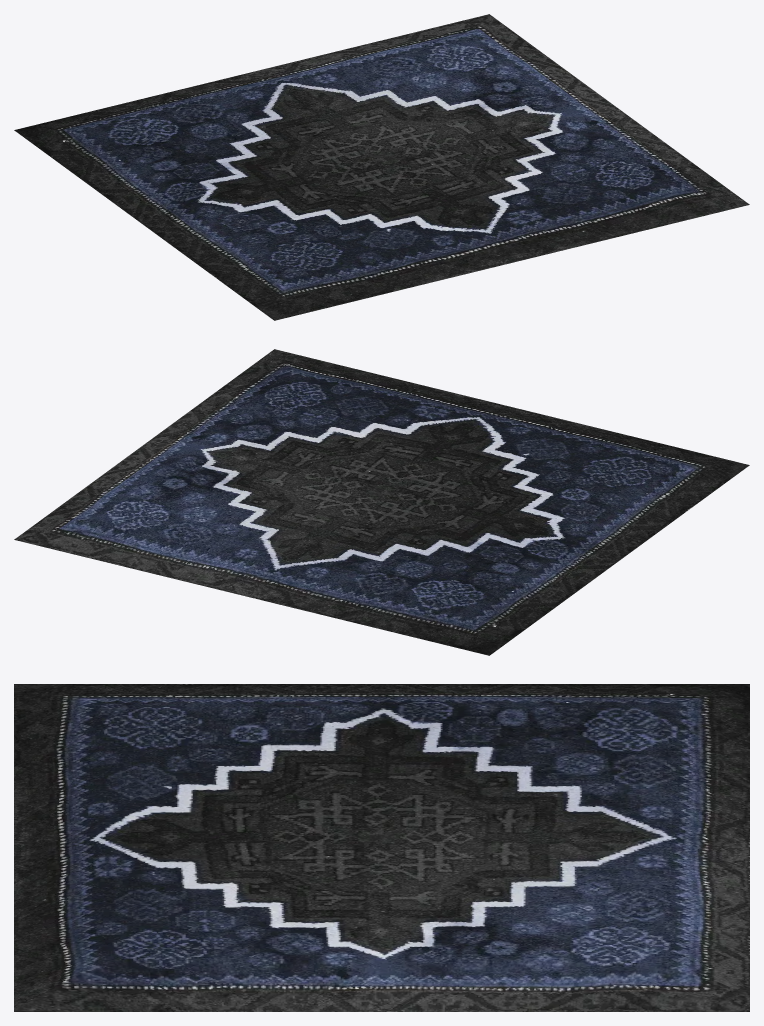
File: KM_VOB_CARPET_06.glb
3 views of the same model, one above another, from view 1: azimuth 30°, elevation 25°; view 2: azimuth 150°, elevation 25°; view 3: azimuth 270°, elevation 25° (orthographic). The views are drawn at different scales.
Parts seen in each view (by area): view 1: Mesh; view 2: Mesh; view 3: Mesh.
Boxes of the visible parts, left/top/right/bottom form: Mesh: left=14, top=14, right=749, bottom=320; Mesh: left=14, top=349, right=749, bottom=655; Mesh: left=14, top=684, right=749, bottom=1011.
Size of the model in its own units: 2.63 by 0.05 by 2.5.
1 material, 1 textured.
